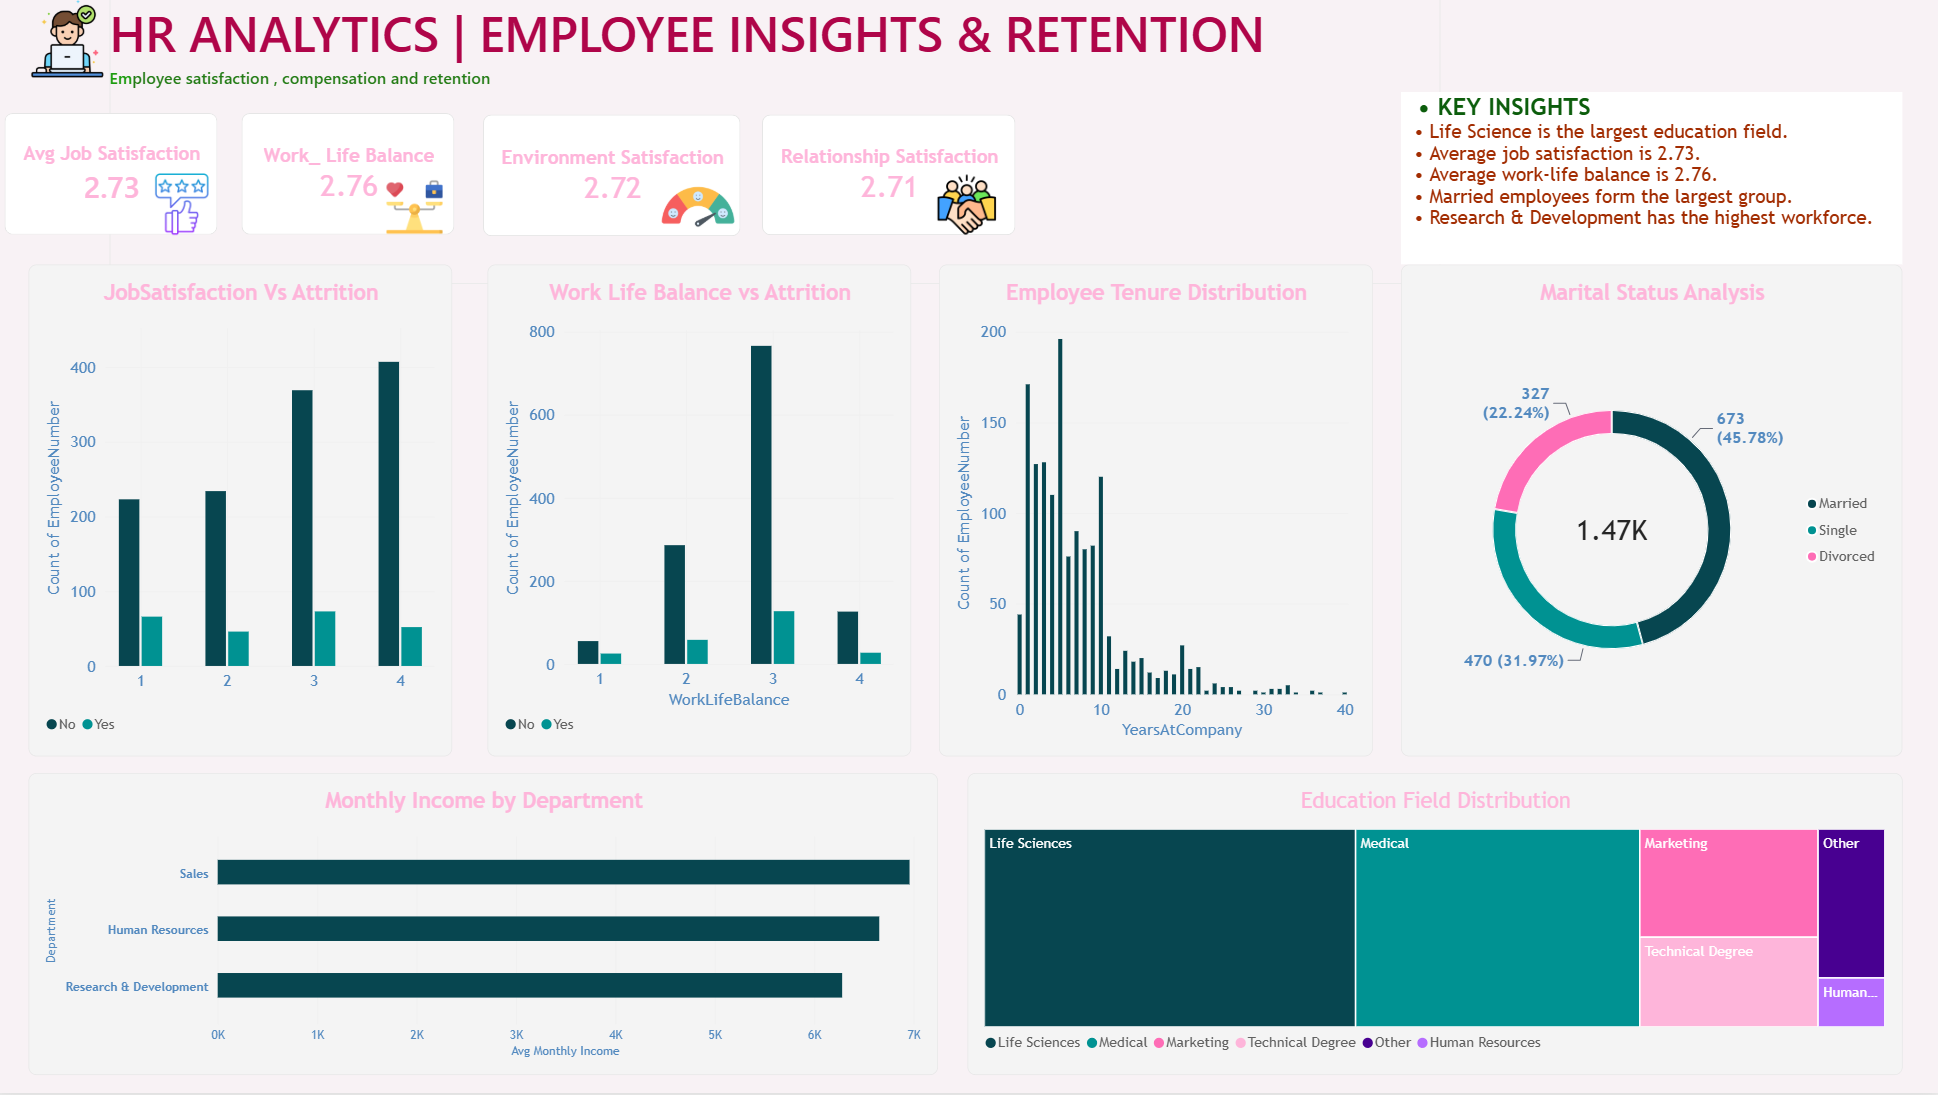

The dashboard page shown, as its layout file describes it:
{"tool":"powerbi","page":{"name":"employee insights","canvas":[1920,1080],"ordinal":2},"visuals":[{"type":"textbox","box":[114.6,0,1312,280.7],"z":0},{"type":"textbox","box":[114.6,66.8,1312,45.8],"z":2},{"type":"clusteredColumnChart","title":"JobSatisfaction Vs Attrition","fields":{"Category":["analytics_db employee_attrition.JobSatisfaction"],"Series":["analytics_db employee_attrition.Attrition"],"Y":["CountNonNull(analytics_db employee_attrition.EmployeeNumber)"]},"box":[34.4,261.6,418.3,485.1],"z":3},{"type":"clusteredColumnChart","title":"Work Life Balance vs Attrition","fields":{"Category":["analytics_db employee_attrition.WorkLifeBalance"],"Series":["analytics_db employee_attrition.Attrition"],"Y":["CountNonNull(analytics_db employee_attrition.EmployeeNumber)"]},"box":[487,261.6,418.3,485.1],"z":4},{"type":"barChart","title":"Monthly Income by Department","fields":{"Category":["analytics_db employee_attrition.Department"],"Y":["analytics_db employee_attrition.Avg Monthly Income"]},"box":[34.4,763.9,897.6,297.9],"z":5},{"type":"columnChart","title":"Employee Tenure Distribution","fields":{"Category":["analytics_db employee_attrition.YearsAtCompany"],"Y":["CountNonNull(analytics_db employee_attrition.EmployeeNumber)"]},"box":[932,261.6,427.8,485.1],"z":6},{"type":"treemap","title":"Education Field Distribution","fields":{"Group":["analytics_db employee_attrition.EducationField"],"Values":["Sum(analytics_db employee_attrition.EmployeeCount)"]},"box":[960.6,763.9,922.4,297.9],"z":7},{"type":"donutChart","title":"Marital Status Analysis","fields":{"Category":["analytics_db employee_attrition.MaritalStatus"],"Y":["Sum(analytics_db employee_attrition.EmployeeCount)"]},"box":[1388.4,261.6,494.6,485.1],"z":8},{"type":"cardVisual","fields":{"Data":["analytics_db employee_attrition.Average Job Satisfaction"]},"box":[10.4,112.5,210.1,120.3],"z":9},{"type":"cardVisual","fields":{"Data":["analytics_db employee_attrition.Average Work Life Balance"]},"box":[244.2,112.5,210.1,120.3],"z":10},{"type":"cardVisual","fields":{"Data":["Avg(analytics_db employee_attrition.EnvironmentSatisfaction)"]},"box":[482.5,114,254,120.3],"z":11},{"type":"cardVisual","fields":{"Data":["Avg(analytics_db employee_attrition.RelationshipSatisfaction)"]},"box":[757.7,114,250.1,119.9],"z":12},{"type":"textbox","box":[1388.4,91.7,494.6,170],"z":13},{"type":"image","box":[34.4,0,76.4,78.3],"z":14},{"type":"image","box":[150.9,171.9,68.8,61.1],"z":15},{"type":"image","box":[376.2,177.6,78.3,55.4],"z":16},{"type":"image","box":[653.2,168.1,84,72.6],"z":17},{"type":"image","box":[916.7,173.8,87.9,59.2],"z":18}]}

Visuals, with their boxes in screenshot pixels (x1, y1, x2, y2), scaled from the page's 1920x1080 canvas onto the 1938x1095 screenshot:
textbox: box=[116, 0, 1440, 285]
textbox: box=[116, 68, 1440, 114]
"JobSatisfaction Vs Attrition" clusteredColumnChart: box=[35, 265, 457, 757]
"Work Life Balance vs Attrition" clusteredColumnChart: box=[492, 265, 914, 757]
"Monthly Income by Department" barChart: box=[35, 775, 941, 1077]
"Employee Tenure Distribution" columnChart: box=[941, 265, 1373, 757]
"Education Field Distribution" treemap: box=[970, 775, 1901, 1077]
"Marital Status Analysis" donutChart: box=[1401, 265, 1901, 757]
cardVisual - analytics_db employee_attrition.Average Job Satisfaction: box=[10, 114, 223, 236]
cardVisual - analytics_db employee_attrition.Average Work Life Balance: box=[246, 114, 459, 236]
cardVisual - Avg(analytics_db employee_attrition.EnvironmentSatisfaction): box=[487, 116, 743, 238]
cardVisual - Avg(analytics_db employee_attrition.RelationshipSatisfaction): box=[765, 116, 1017, 237]
textbox: box=[1401, 93, 1901, 265]
image: box=[35, 0, 112, 79]
image: box=[152, 174, 222, 236]
image: box=[380, 180, 459, 236]
image: box=[659, 170, 744, 244]
image: box=[925, 176, 1014, 236]
